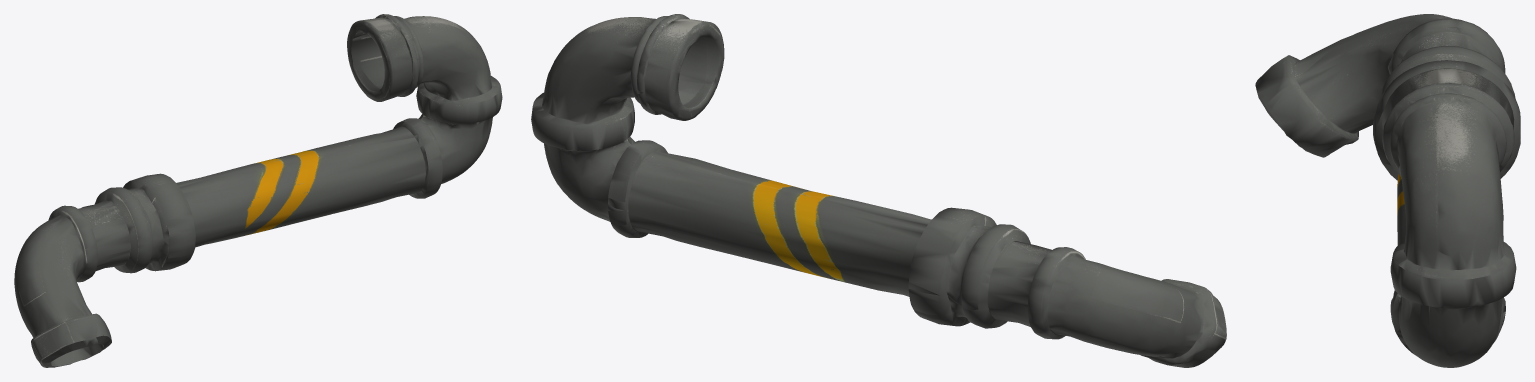
The model's file is 17_debris_elbow_pipe.fbx.
The picture shows the model from 3 angles, left to right: view 1: azimuth 30°, elevation 25°; view 2: azimuth 150°, elevation 25°; view 3: azimuth 270°, elevation 25°; orthographic projection. The views are drawn at different scales.
Visible parts, largest first — view 1: 17_debris_elbow_pipe; view 2: 17_debris_elbow_pipe; view 3: 17_debris_elbow_pipe.
Part boxes in pixels (left/top/right/bottom): 17_debris_elbow_pipe: left=14, top=14, right=502, bottom=367; 17_debris_elbow_pipe: left=531, top=14, right=1226, bottom=367; 17_debris_elbow_pipe: left=1255, top=14, right=1520, bottom=367.
Bounding box in the file's own units: 0.8 × 0.338 × 0.2521.
Materials: 1 (1 with a texture image).
